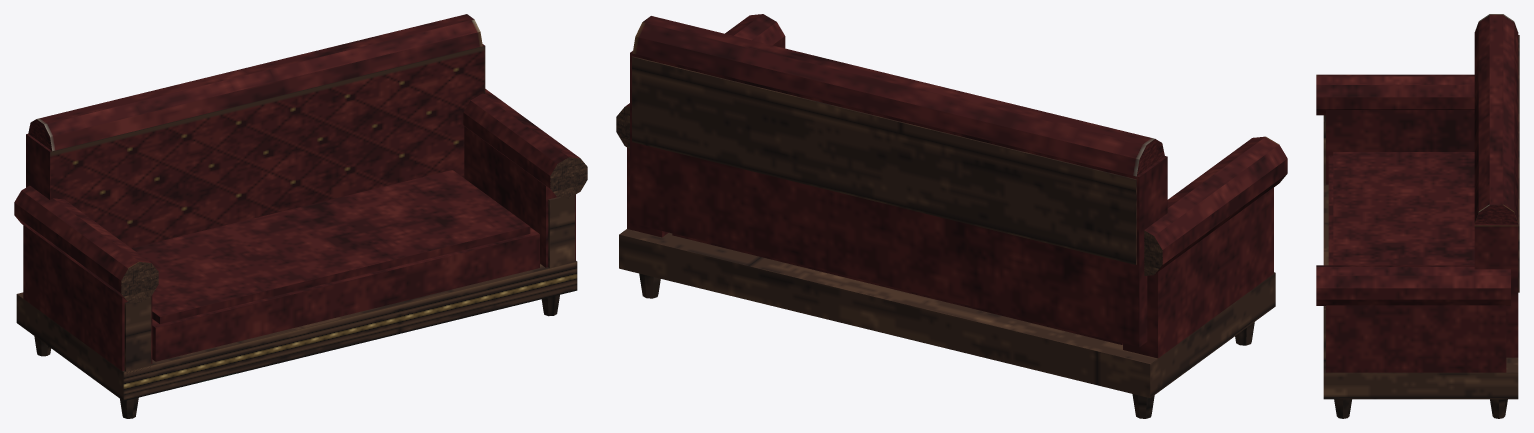
The model's file is Furn_Sofa_Long.fbx.
3 views of the same model, side by side, from view 1: azimuth 30°, elevation 25°; view 2: azimuth 150°, elevation 25°; view 3: azimuth 270°, elevation 25° (orthographic). The views are drawn at different scales.
Parts seen in each view (by area): view 1: Furn_Sofa_Long; view 2: Furn_Sofa_Long; view 3: Furn_Sofa_Long.
Boxes of the visible parts, <box> form: Furn_Sofa_Long: <box>14,14,587,418</box>; Furn_Sofa_Long: <box>616,14,1287,418</box>; Furn_Sofa_Long: <box>1316,14,1519,418</box>.
Size of the model in its own units: 2.02 by 0.9656 by 0.835.
